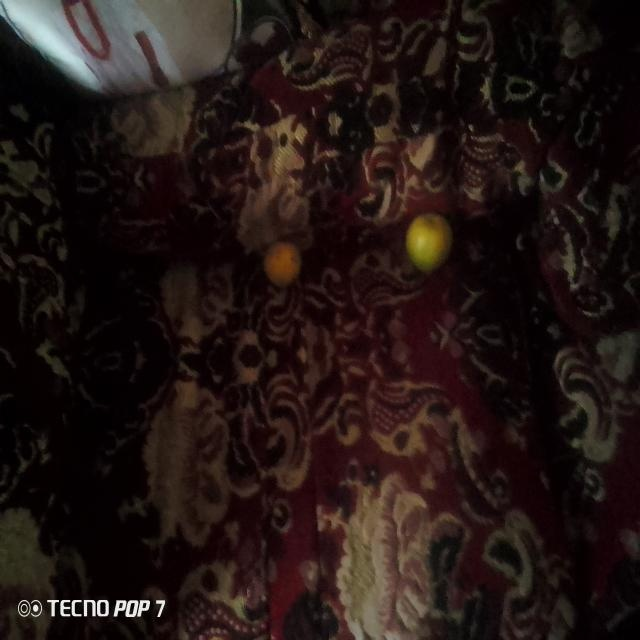agrume: (400, 209, 458, 276), (260, 246, 301, 286)
